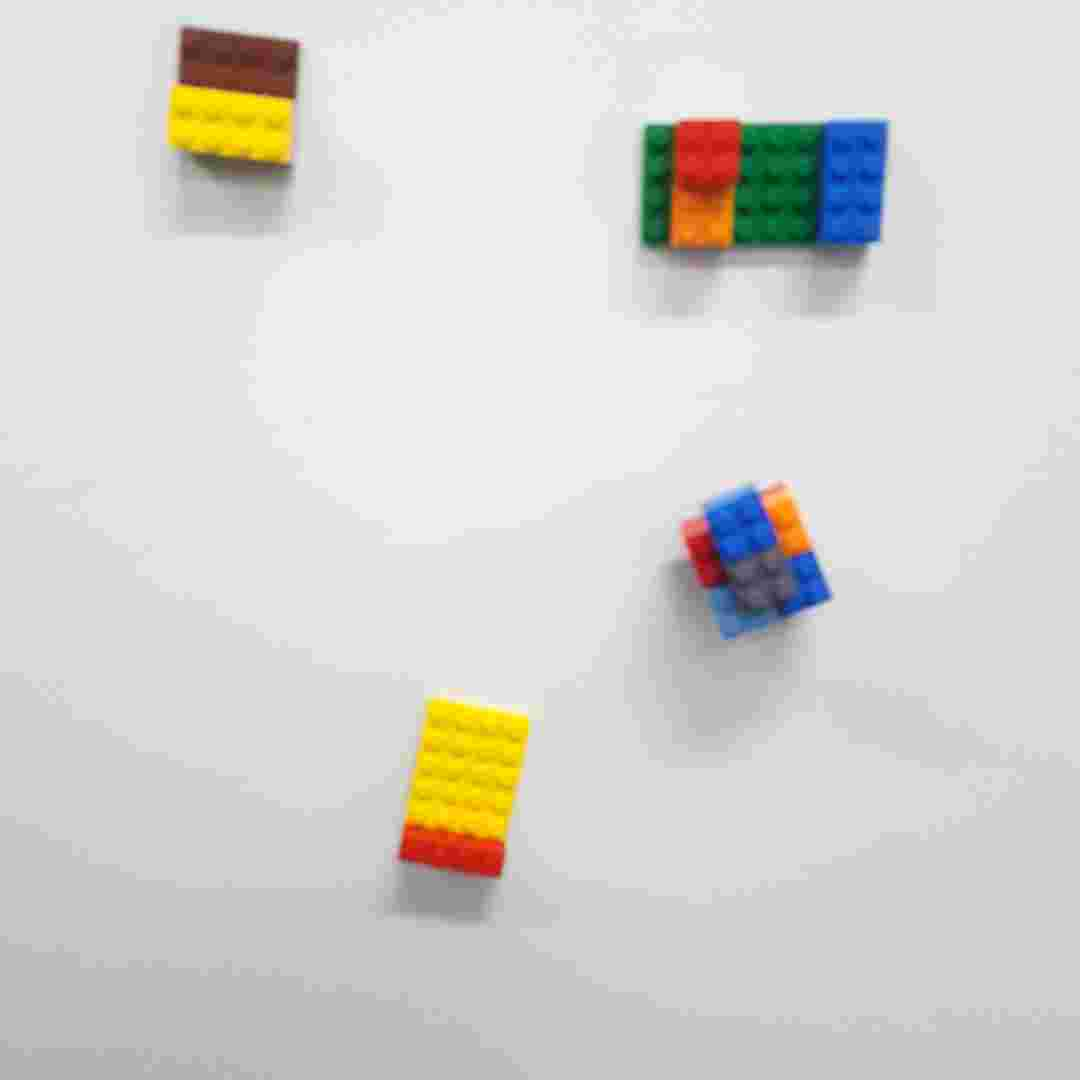LEGO: (631, 108, 913, 265), (679, 459, 845, 660), (392, 687, 536, 893), (161, 20, 319, 180)
